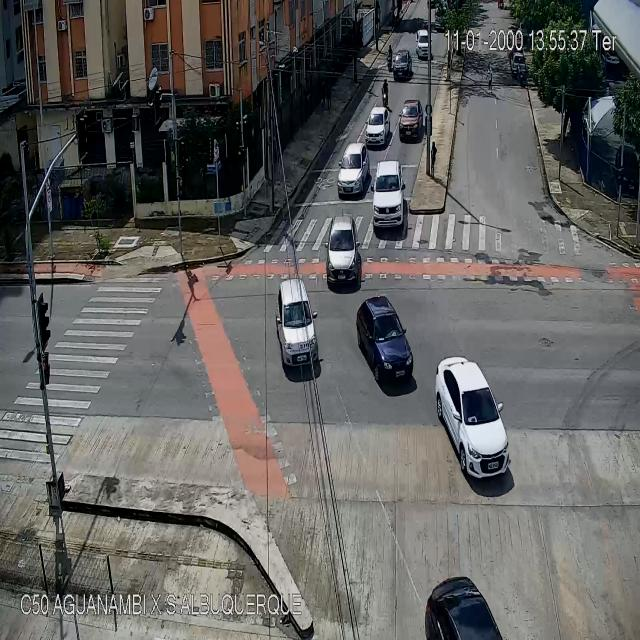Car: (436, 357, 510, 481), (357, 296, 413, 389), (276, 279, 318, 372), (324, 216, 360, 290), (370, 161, 404, 229), (337, 142, 371, 197), (399, 98, 423, 140), (365, 106, 389, 145), (392, 48, 412, 79), (416, 29, 432, 60), (511, 51, 525, 74)
Motorcycle: (386, 42, 395, 73), (381, 78, 389, 109), (517, 64, 524, 86)
